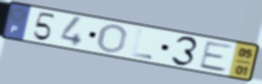3: (168, 35, 201, 68)
4: (58, 14, 85, 49)
5: (32, 10, 57, 41)
E: (197, 40, 236, 74)
L: (130, 28, 154, 60)
O: (95, 23, 129, 54)
